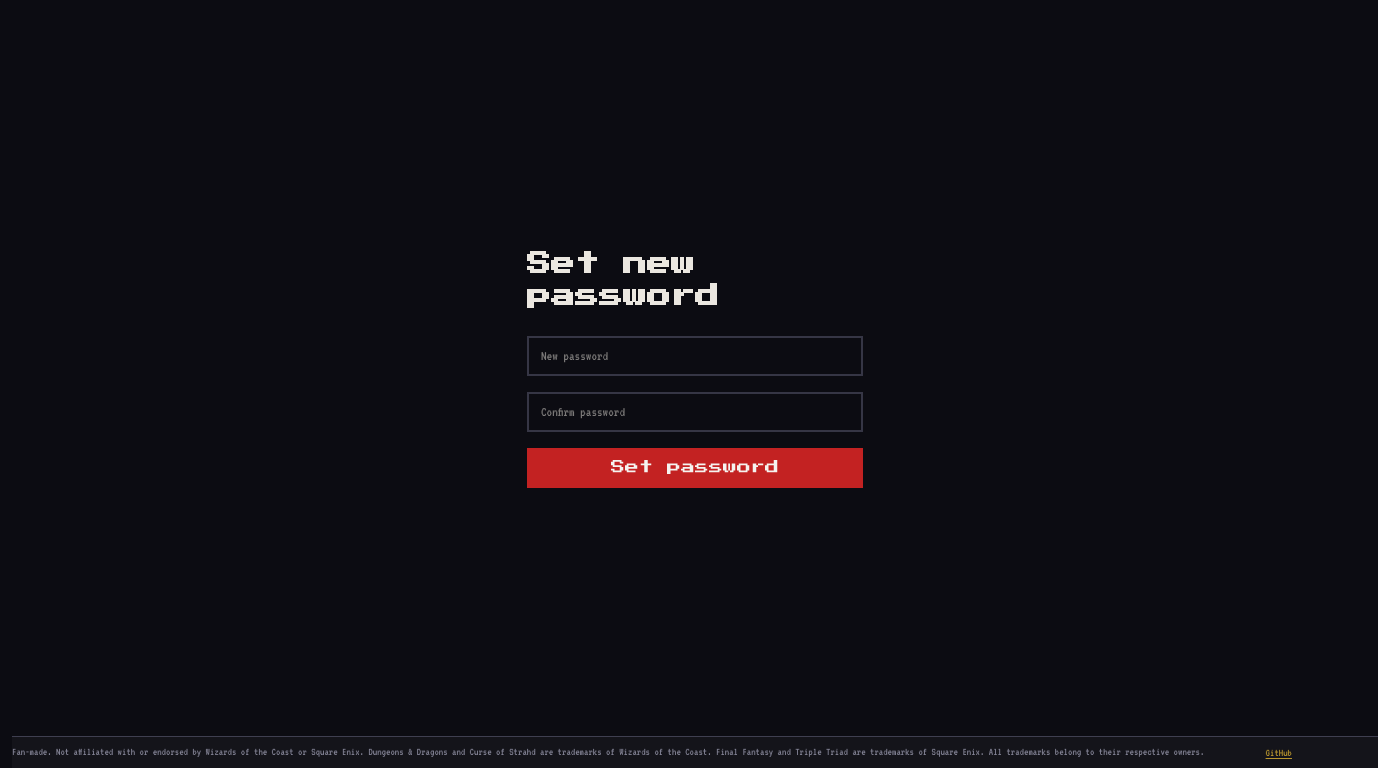
Test case: reset password page › shows error when passwords do not match
Expected: the heading "Set new password" is shown, [527,252,719,308]
Step 1. Type "hunter2" into the password field with placeholder "New password" → (695, 356), box [527,336,863,376]
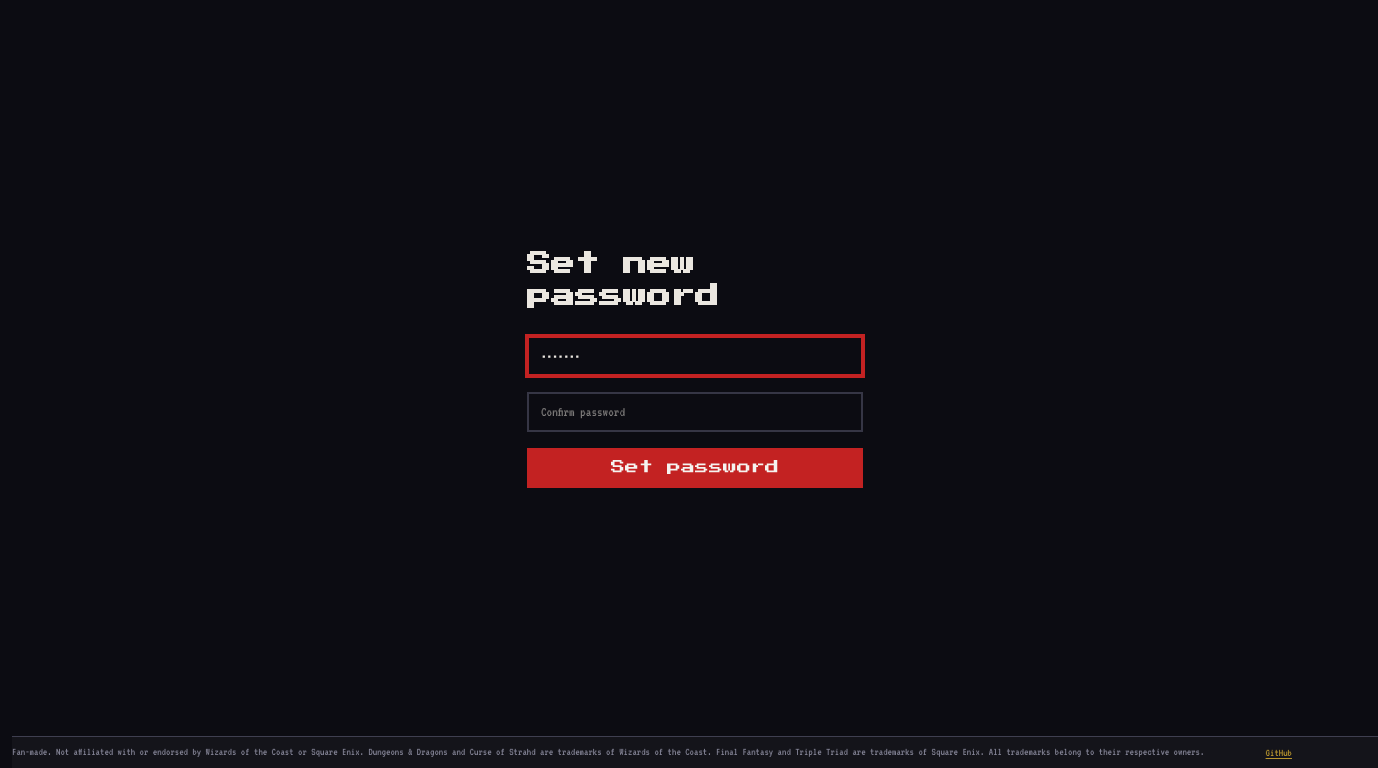
Step 2. Type "different" into the password field with placeholder "Confirm password" → (695, 412), box [527,392,863,432]
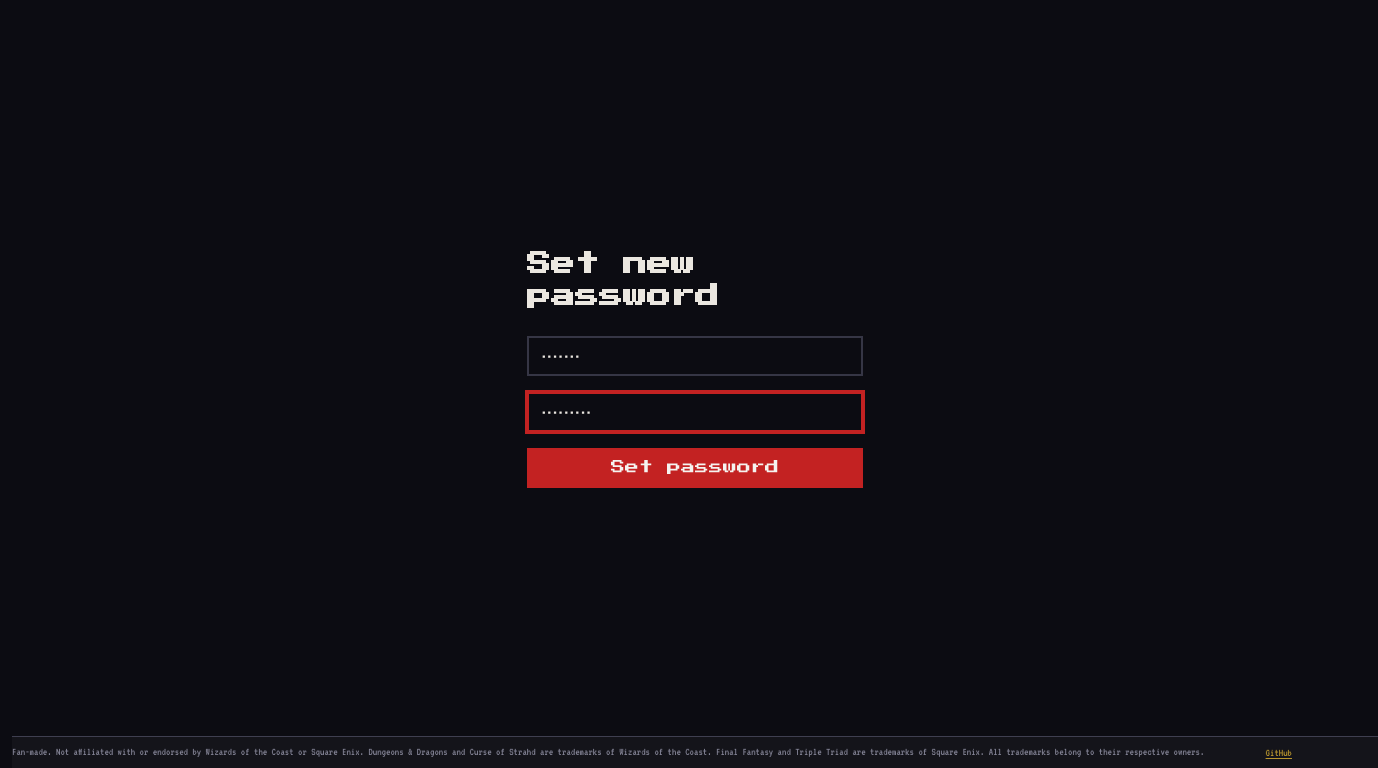
Step 3. Click the button "Set password" → (695, 468), box [527,448,863,488]
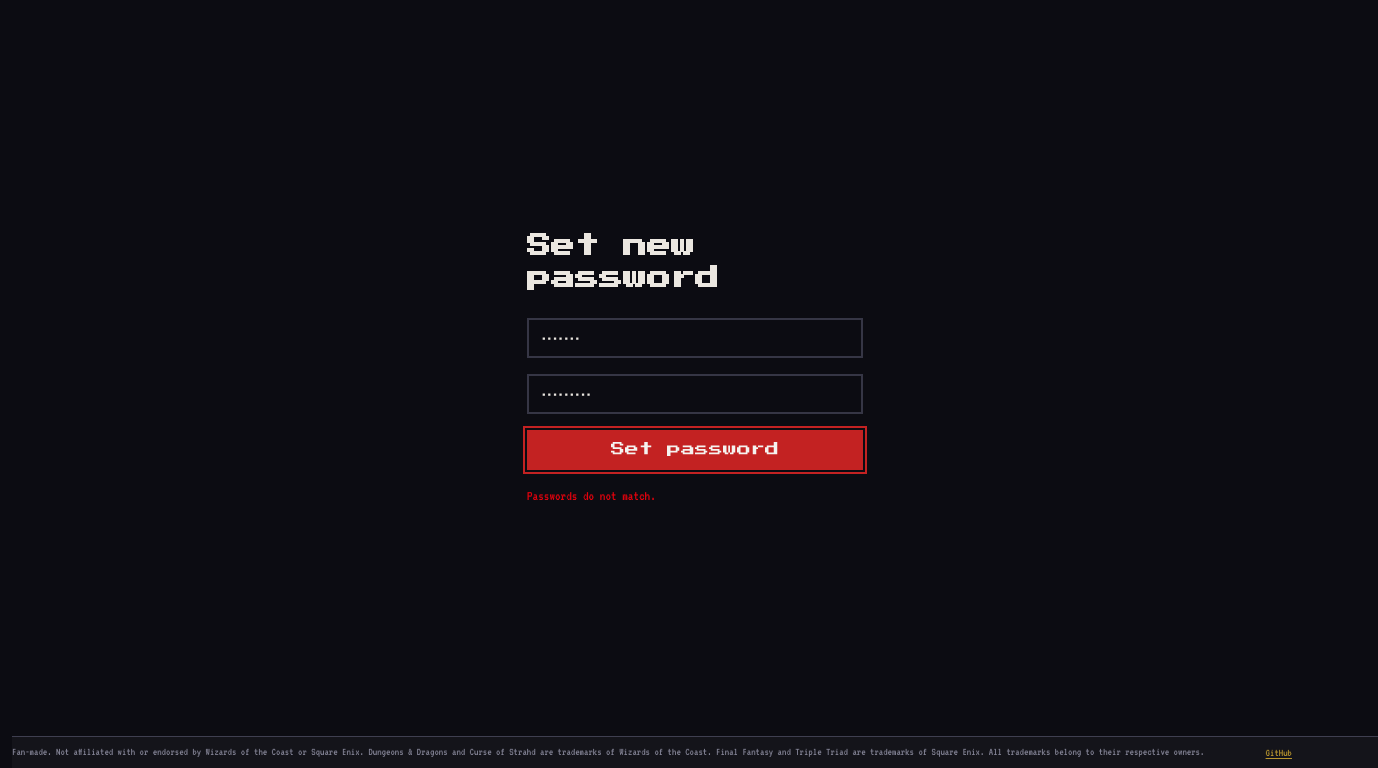
Expected: the text "Passwords do not match." is shown, [527,489,656,503]
